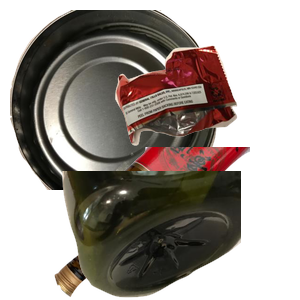glass: (52, 147, 292, 300)
metal: (10, 10, 221, 190)
plastic: (60, 171, 300, 300)
trash: (113, 43, 300, 181)
